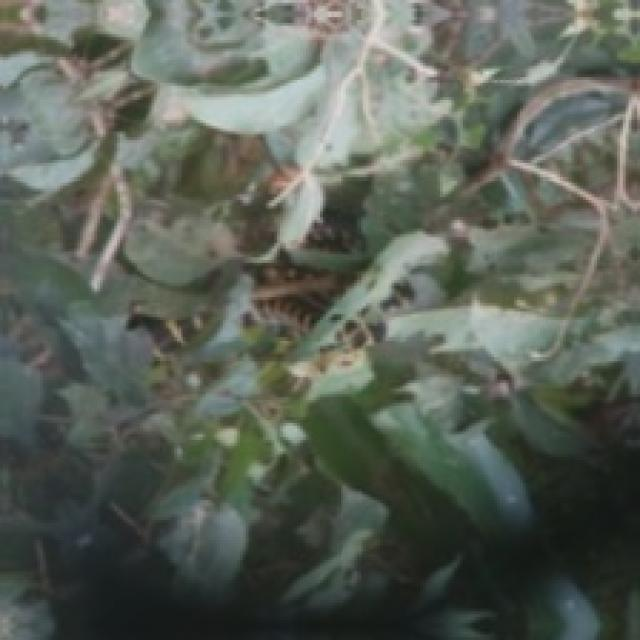mangrove cat snake: (231, 291, 328, 338), (130, 311, 205, 352)
